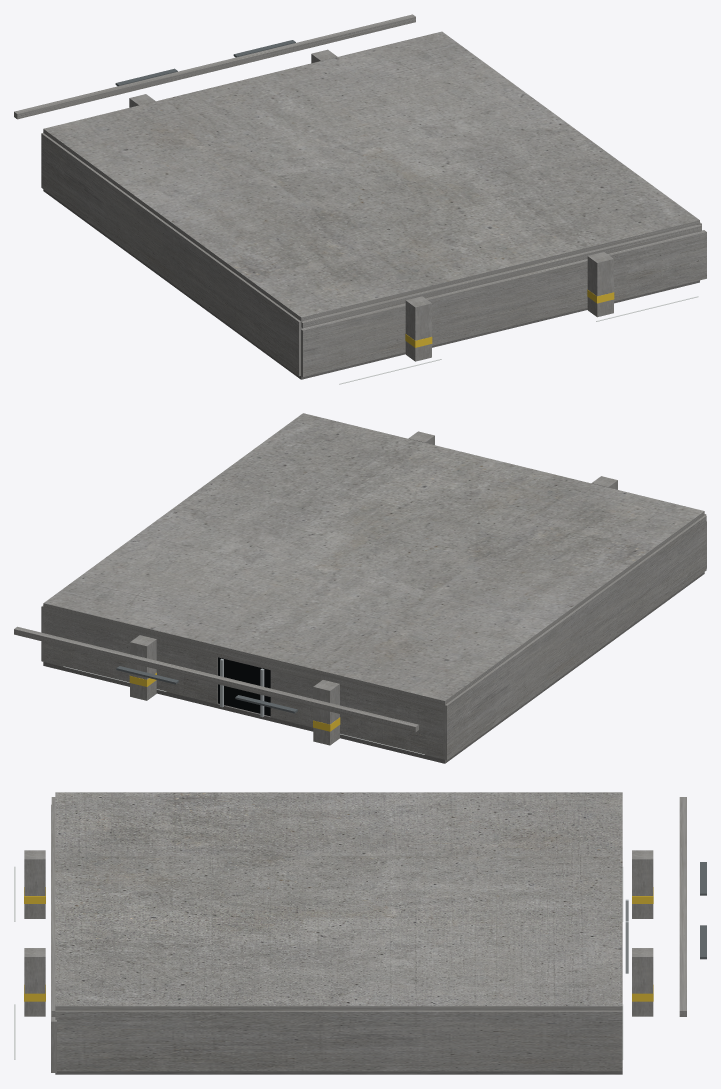
File: 21_unfinished_elevator_installation.glb
3 views of the same model, one above another, from view 1: azimuth 30°, elevation 25°; view 2: azimuth 150°, elevation 25°; view 3: azimuth 270°, elevation 25° (orthographic). The views are drawn at different scales.
Parts seen in each view (by area): view 1: Concrete ceiling, Landing wall pier.002, Left retaining wall, Overhead beam.004, Overhead beam, Concrete floor, Concrete support column.005, Concrete support column; view 2: Concrete ceiling, Left retaining wall, Landing wall pier, Landing wall pier.001, Overhead beam.004, Landing wall upper strip, Concrete floor, Unfinished hoistway darkness, Concrete support column.004, Concrete support column.009; view 3: Concrete ceiling, Right retaining wall, Concrete floor, Overhead beam.004, Concrete support column.005, Concrete support column.009, Concrete support column, Concrete support column.004, Overhead beam, Landing wall pier.002.
Part boxes in pixels (bbox=[...]): Concrete ceiling: bbox=[43, 31, 699, 321]; Landing wall pier.002: bbox=[301, 230, 706, 377]; Left retaining wall: bbox=[41, 133, 302, 376]; Overhead beam.004: bbox=[14, 14, 415, 119]; Overhead beam: bbox=[301, 224, 701, 328]; Concrete floor: bbox=[43, 189, 699, 379]; Concrete support column.005: bbox=[587, 252, 613, 317]; Concrete support column: bbox=[405, 296, 431, 361]; Concrete ceiling: bbox=[43, 413, 704, 704]; Left retaining wall: bbox=[443, 515, 706, 760]; Landing wall pier: bbox=[270, 670, 444, 759]; Landing wall pier.001: bbox=[43, 615, 218, 704]; Overhead beam.004: bbox=[14, 626, 418, 732]; Landing wall upper strip: bbox=[43, 607, 444, 712]; Concrete floor: bbox=[43, 572, 704, 763]; Unfinished hoistway darkness: bbox=[218, 657, 270, 716]; Concrete support column.004: bbox=[313, 680, 339, 745]; Concrete support column.009: bbox=[130, 635, 156, 700]; Concrete ceiling: bbox=[55, 792, 622, 1010]; Right retaining wall: bbox=[55, 1010, 622, 1071]; Concrete floor: bbox=[55, 1071, 622, 1074]; Overhead beam.004: bbox=[679, 797, 686, 1016]; Concrete support column.005: bbox=[24, 948, 45, 1016]; Concrete support column.009: bbox=[632, 948, 653, 1016]; Concrete support column: bbox=[24, 850, 45, 918]; Concrete support column.004: bbox=[632, 850, 653, 918]; Overhead beam: bbox=[51, 797, 55, 1016]; Landing wall pier.002: bbox=[51, 804, 56, 1072].
Bounding box in the file's own units: 25.45 × 3.73 × 34.21.
Materials: 12 (4 with a texture image).
